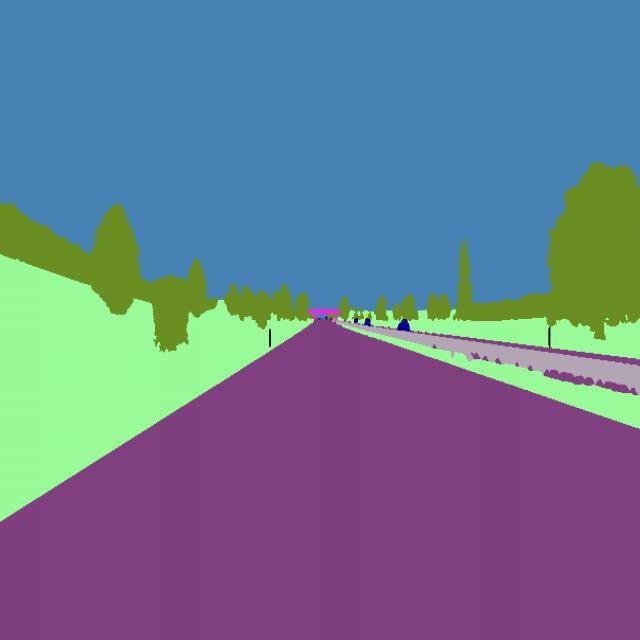safe: (397, 310, 414, 336), (361, 314, 374, 330)
